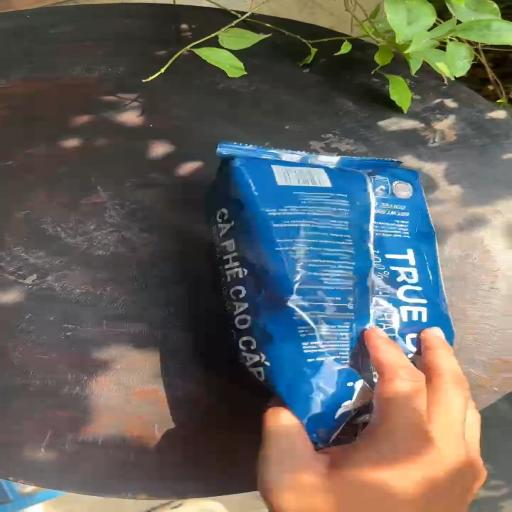cafe_hat: (208, 142, 454, 449)
